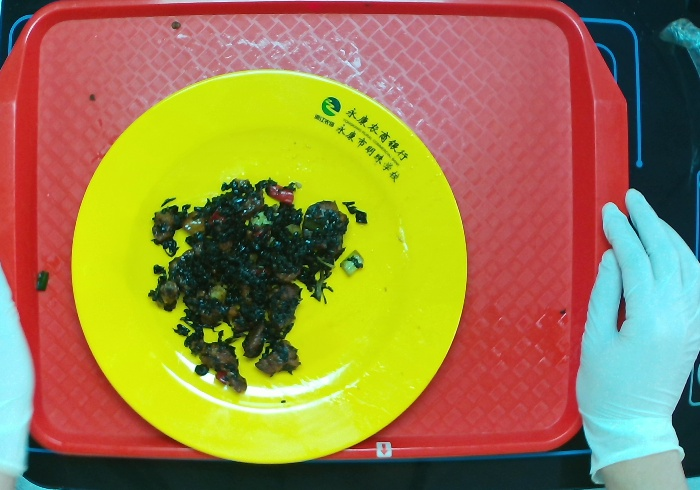YKMZ-Huang_Se_Mian_Pan: (60, 62, 472, 470)
